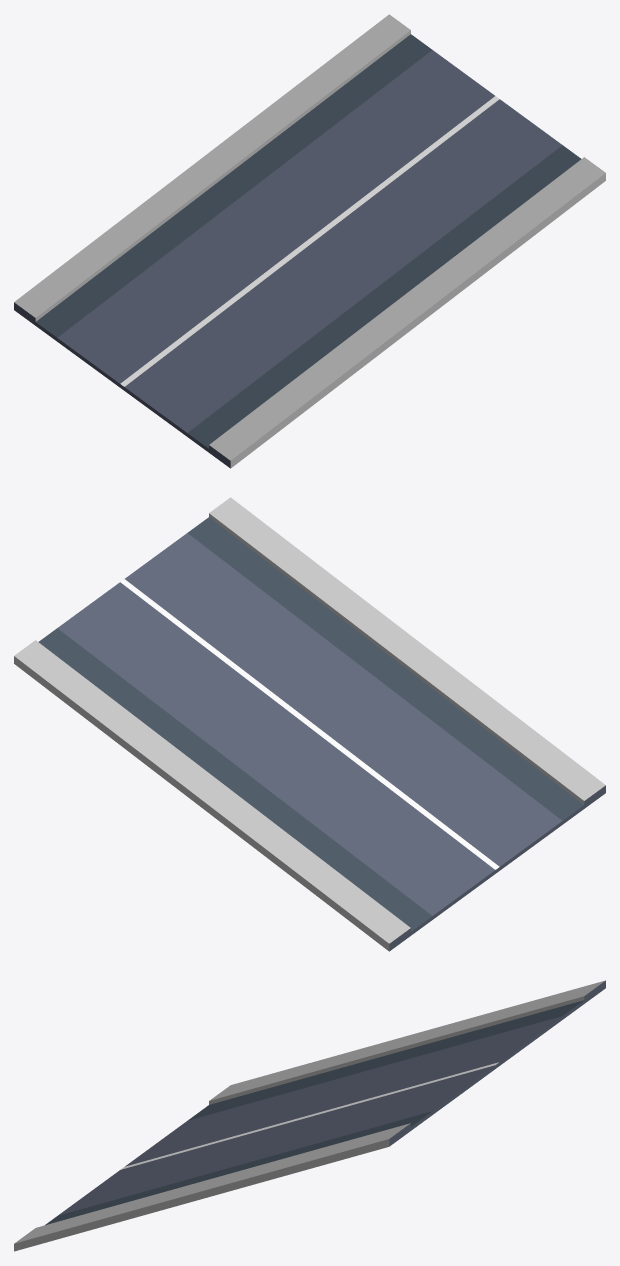
Rendered from SM_Road_Slant_Flat_High.fbx.
3 views of the same model, one above another, from view 1: azimuth 30°, elevation 25°; view 2: azimuth 150°, elevation 25°; view 3: azimuth 330°, elevation 25° (orthographic).
Visible parts, largest first — view 1: SM_Road_Slant_Flat_High; view 2: SM_Road_Slant_Flat_High; view 3: SM_Road_Slant_Flat_High.
Part boxes in pixels (<box>): SM_Road_Slant_Flat_High: <box>14,14,605,468</box>; SM_Road_Slant_Flat_High: <box>14,497,605,951</box>; SM_Road_Slant_Flat_High: <box>14,980,605,1251</box>.
Size of the model in its own units: 1000 by 520 by 1000.
